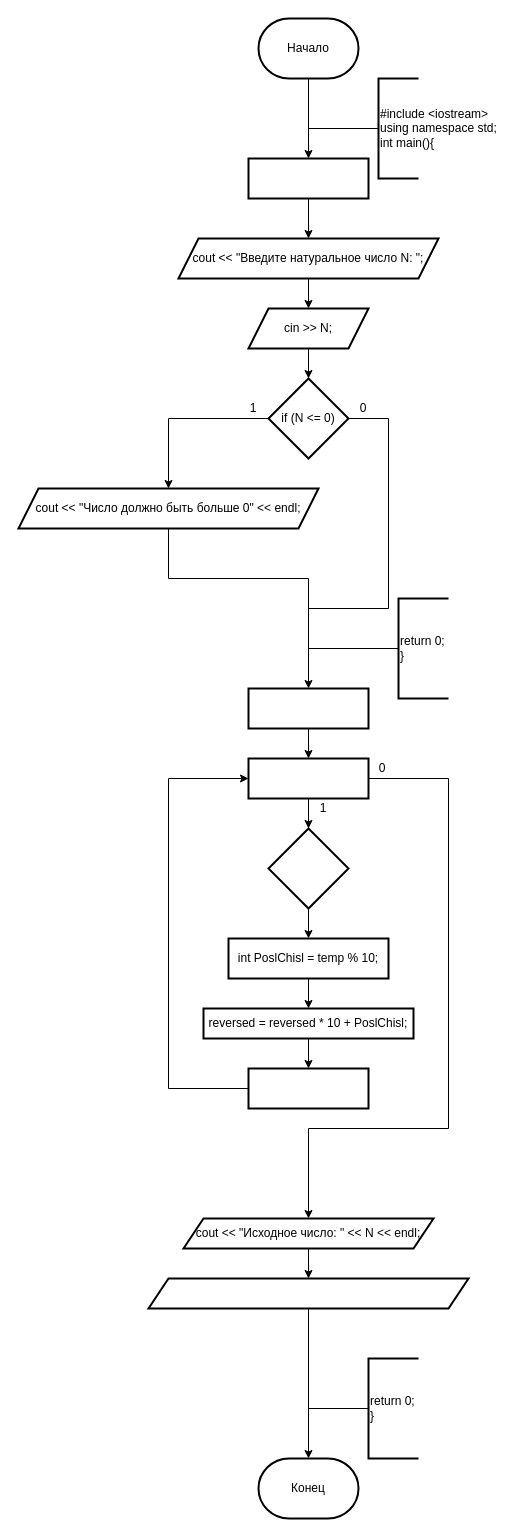
This 514x1536 diagram has some shape labels left out. Here are the shapes that lost their labels. From the top down, the centre of each, then its label:
pixel 308 178: int n;
pixel 308 708: int reversed = 0;
pixel 308 778: int temp = N;
pixel 308 868: temp > 0
pixel 308 1088: temp = temp / 10
pixel 308 1293: cout << "Перевёрнутое число: " << reversed << endl;
